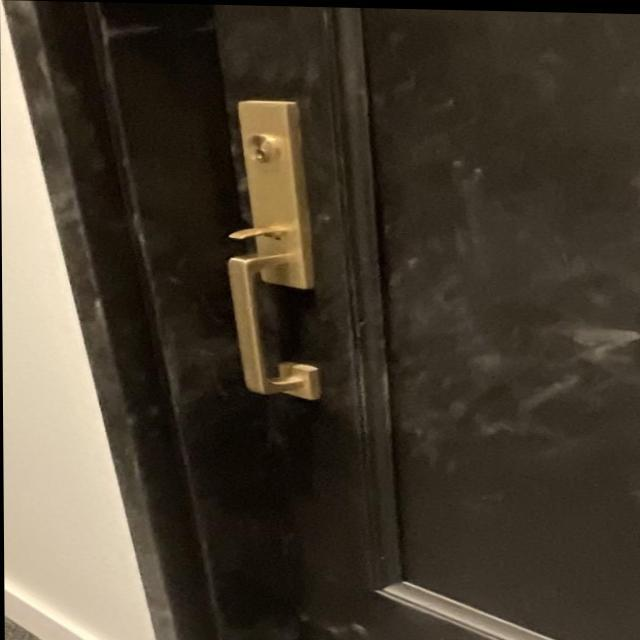door_handle: (210, 244, 342, 405)
